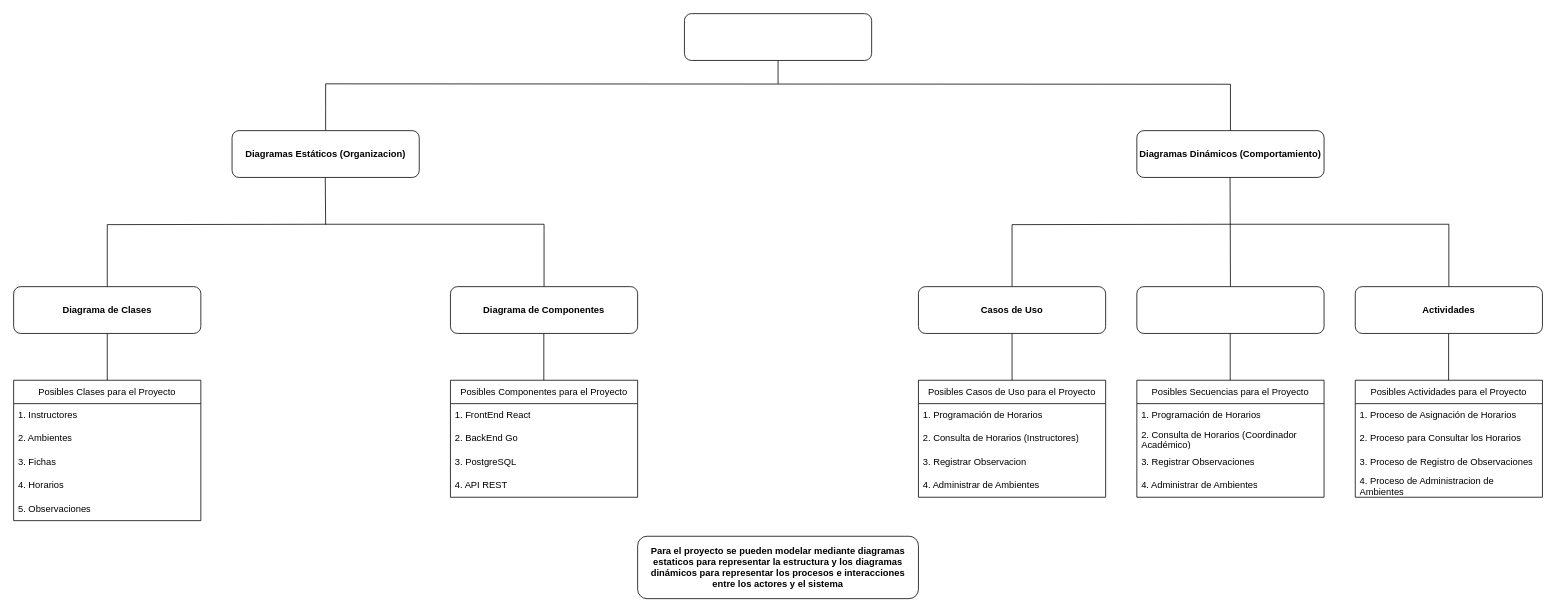
This 1556x612 diagram has some shape labels left out. The shapes that lost their labels are listed below. From the top down, each one's centre as x and y in pixels, then its label:
At point (778, 36): "Clasificación de Diagramas UML Aplicables al Proyecto".
At point (1230, 309): "Secuencia".
